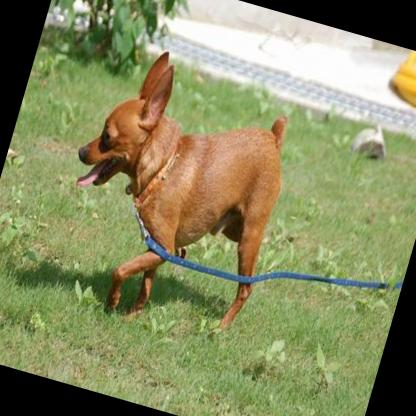miniature_pinscher: (34, 29, 311, 352)
